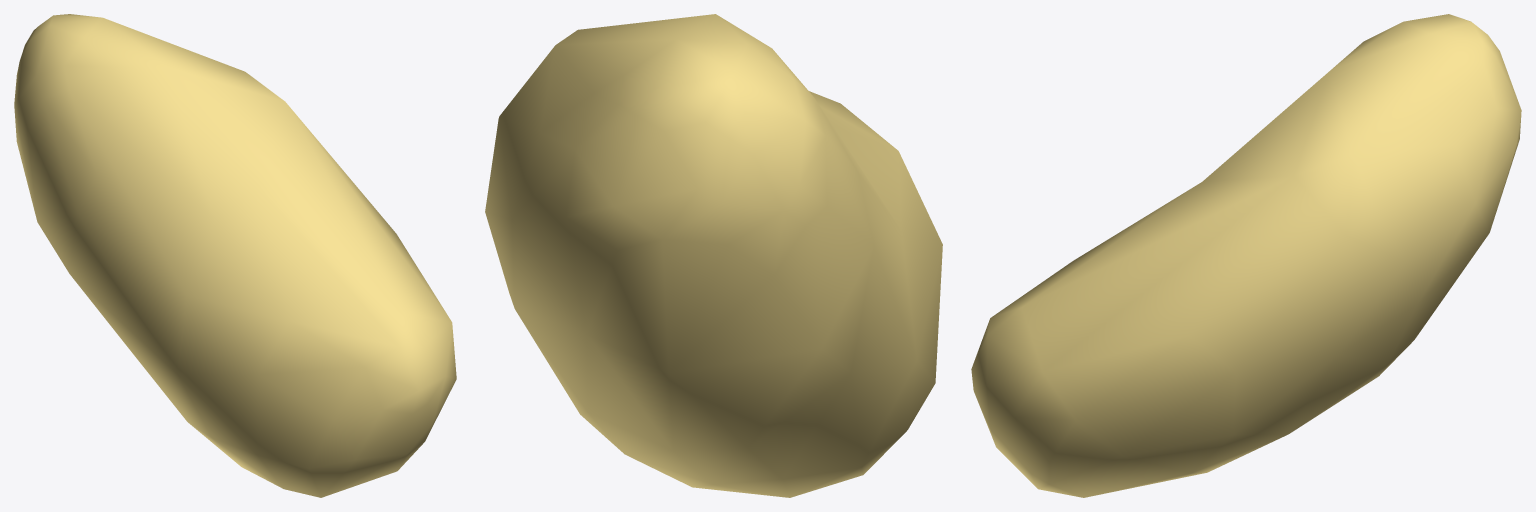
File: fma73310.glb
The picture shows the model from 3 angles, left to right: view 1: azimuth 30°, elevation 25°; view 2: azimuth 150°, elevation 25°; view 3: azimuth 270°, elevation 25°; orthographic projection. The views are drawn at different scales.
Parts seen in each view (by area): view 1: FMA73310; view 2: FMA73310; view 3: FMA73310.
Part boxes in pixels (box(x1,y1,x2,y2)): FMA73310: box(14, 14, 456, 497); FMA73310: box(485, 14, 942, 497); FMA73310: box(971, 14, 1521, 497).
Bounding box in the file's own units: 0.0052 × 0.00699 × 0.00832.
